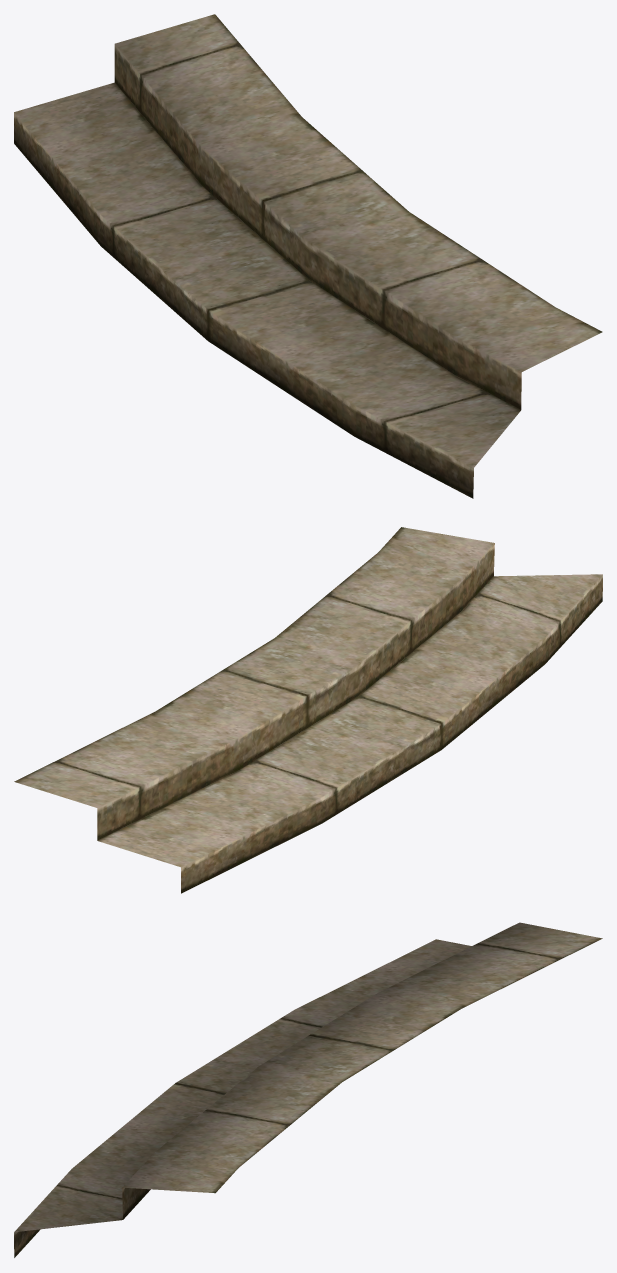
Rendered from EKH_THRONE_PS_TH_STEP_0292.fbx.
The picture shows the model from 3 angles, top to bottom: view 1: azimuth 30°, elevation 25°; view 2: azimuth 150°, elevation 25°; view 3: azimuth 330°, elevation 25°; orthographic projection. The views are drawn at different scales.
Parts seen in each view (by area): view 1: EKH_THRONE_PS_TH_STEP_0292; view 2: EKH_THRONE_PS_TH_STEP_0292; view 3: EKH_THRONE_PS_TH_STEP_0292.
Part boxes in pixels (x1,y1,x2,y2): EKH_THRONE_PS_TH_STEP_0292: (14, 14, 602, 498); EKH_THRONE_PS_TH_STEP_0292: (14, 527, 602, 893); EKH_THRONE_PS_TH_STEP_0292: (14, 922, 602, 1257).
Size of the model in its own units: 19174 by 5895 by 62173.
Materials: 1 (1 with a texture image).
